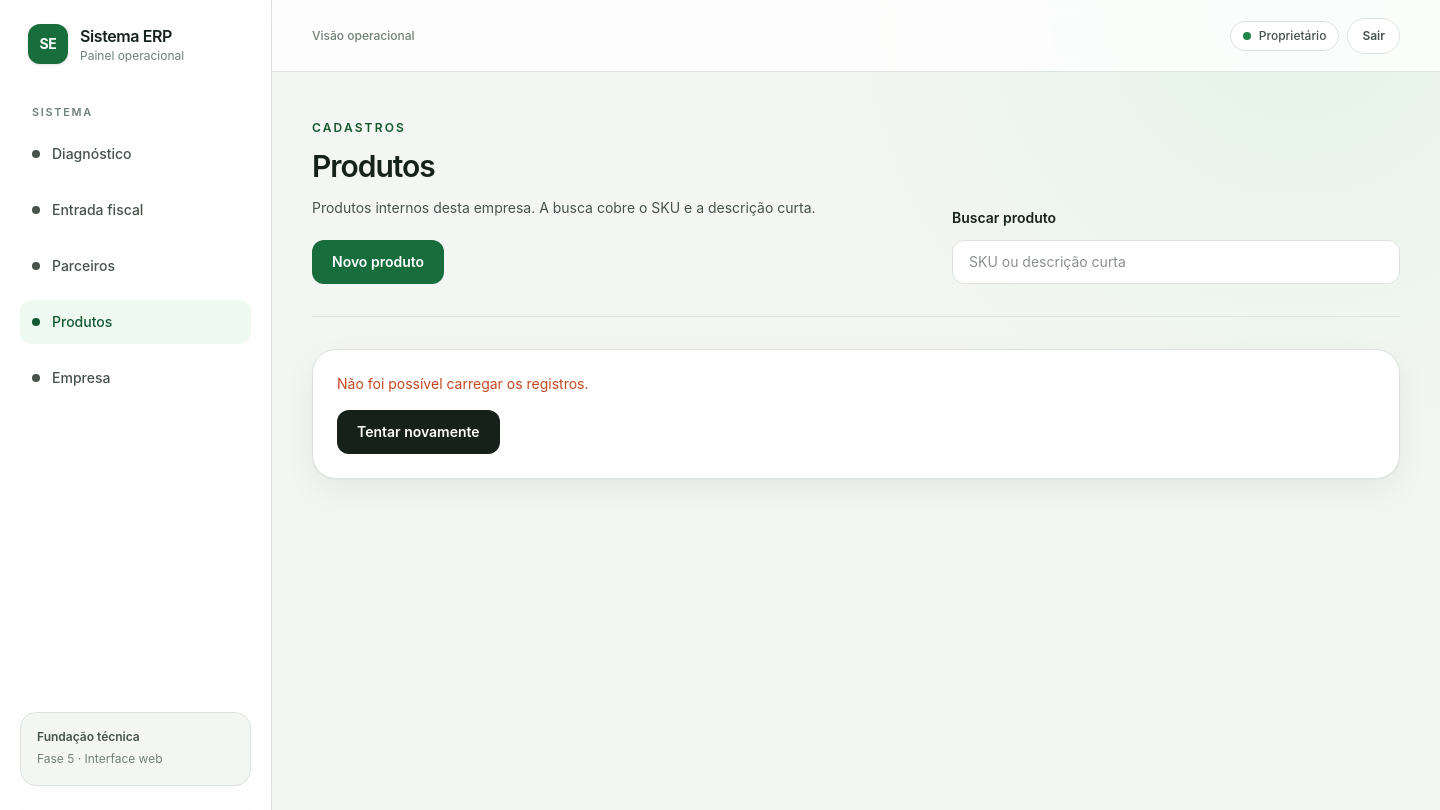
Test: listagens de cadastro › permite tentar novamente quando a listagem de produtos falha
Expected: the text "Não foi possível carregar os registros." is shown, [337,375,588,392]
Step 1. Click the button "Tentar novamente" → (418, 432), box [337,410,500,454]
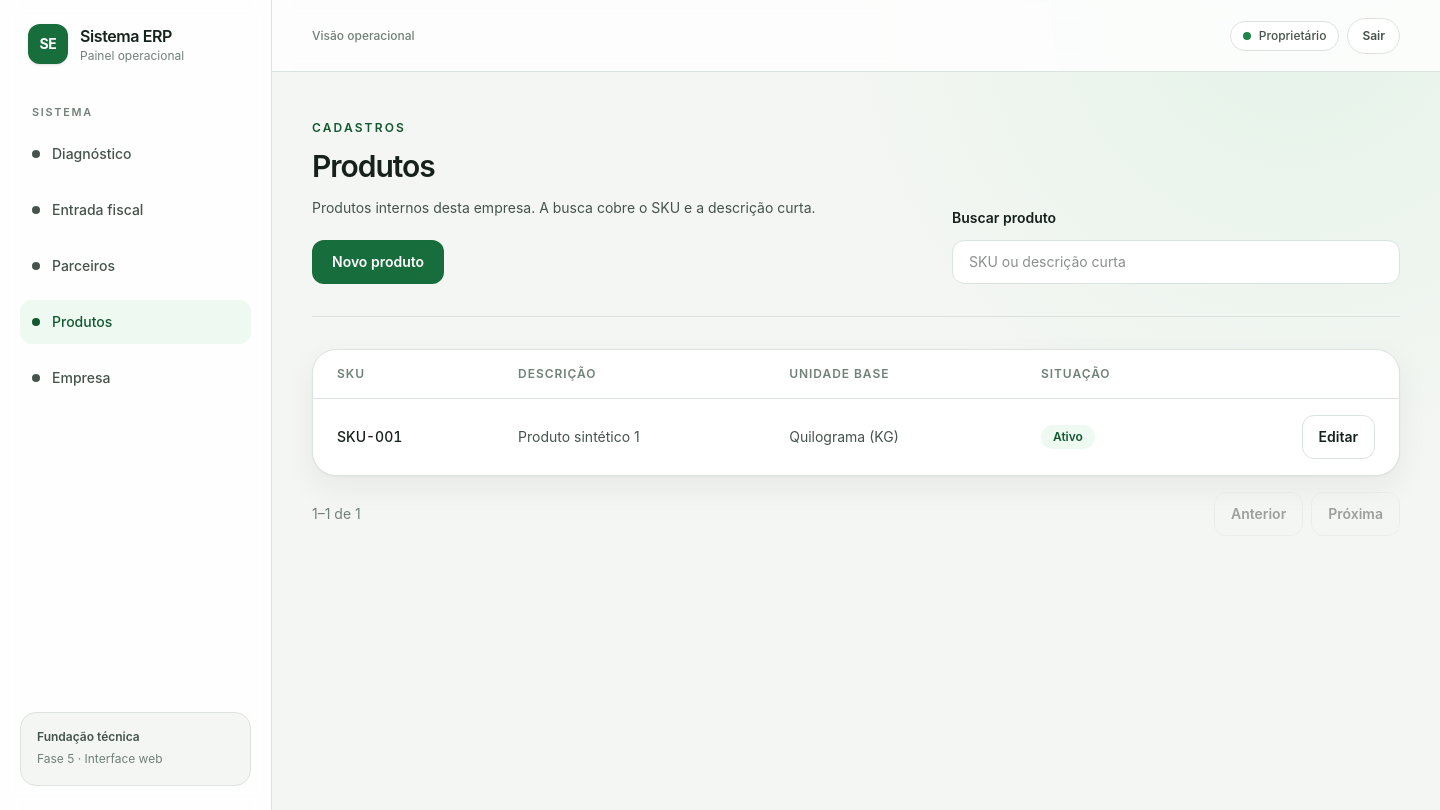
Expected: the text "SKU-001" is shown, [313,398,494,475]
